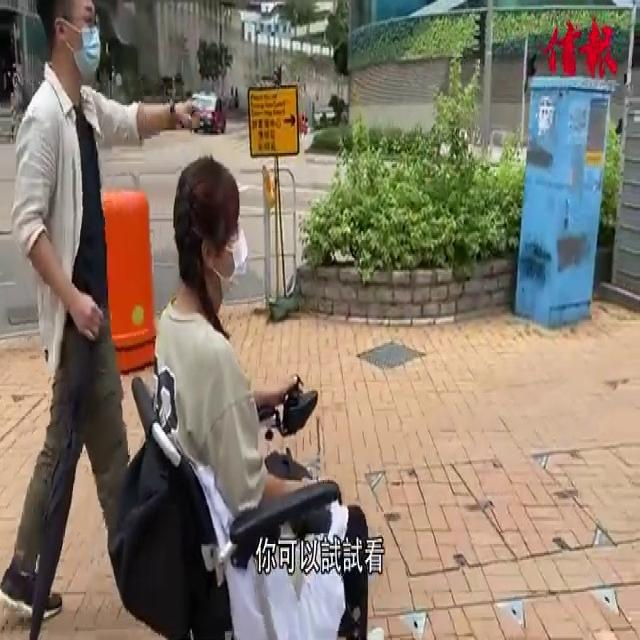wheelchairs: (85, 320, 397, 640)
